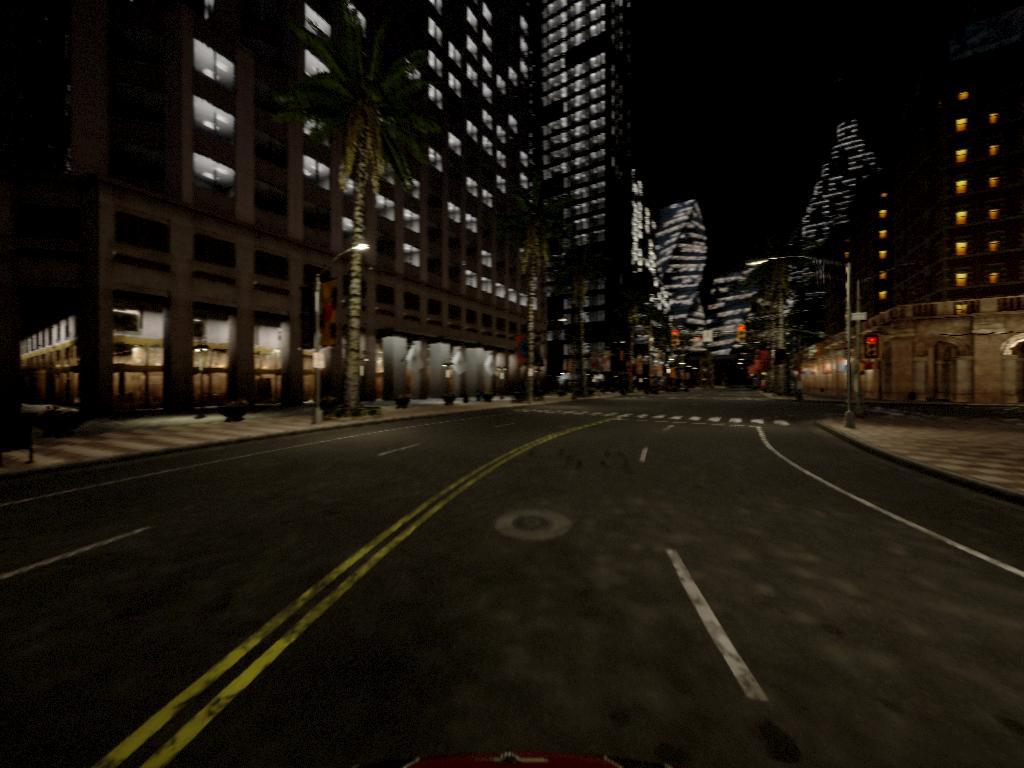traffic_light: (865, 336, 882, 364), (736, 326, 749, 343), (671, 329, 682, 348)
